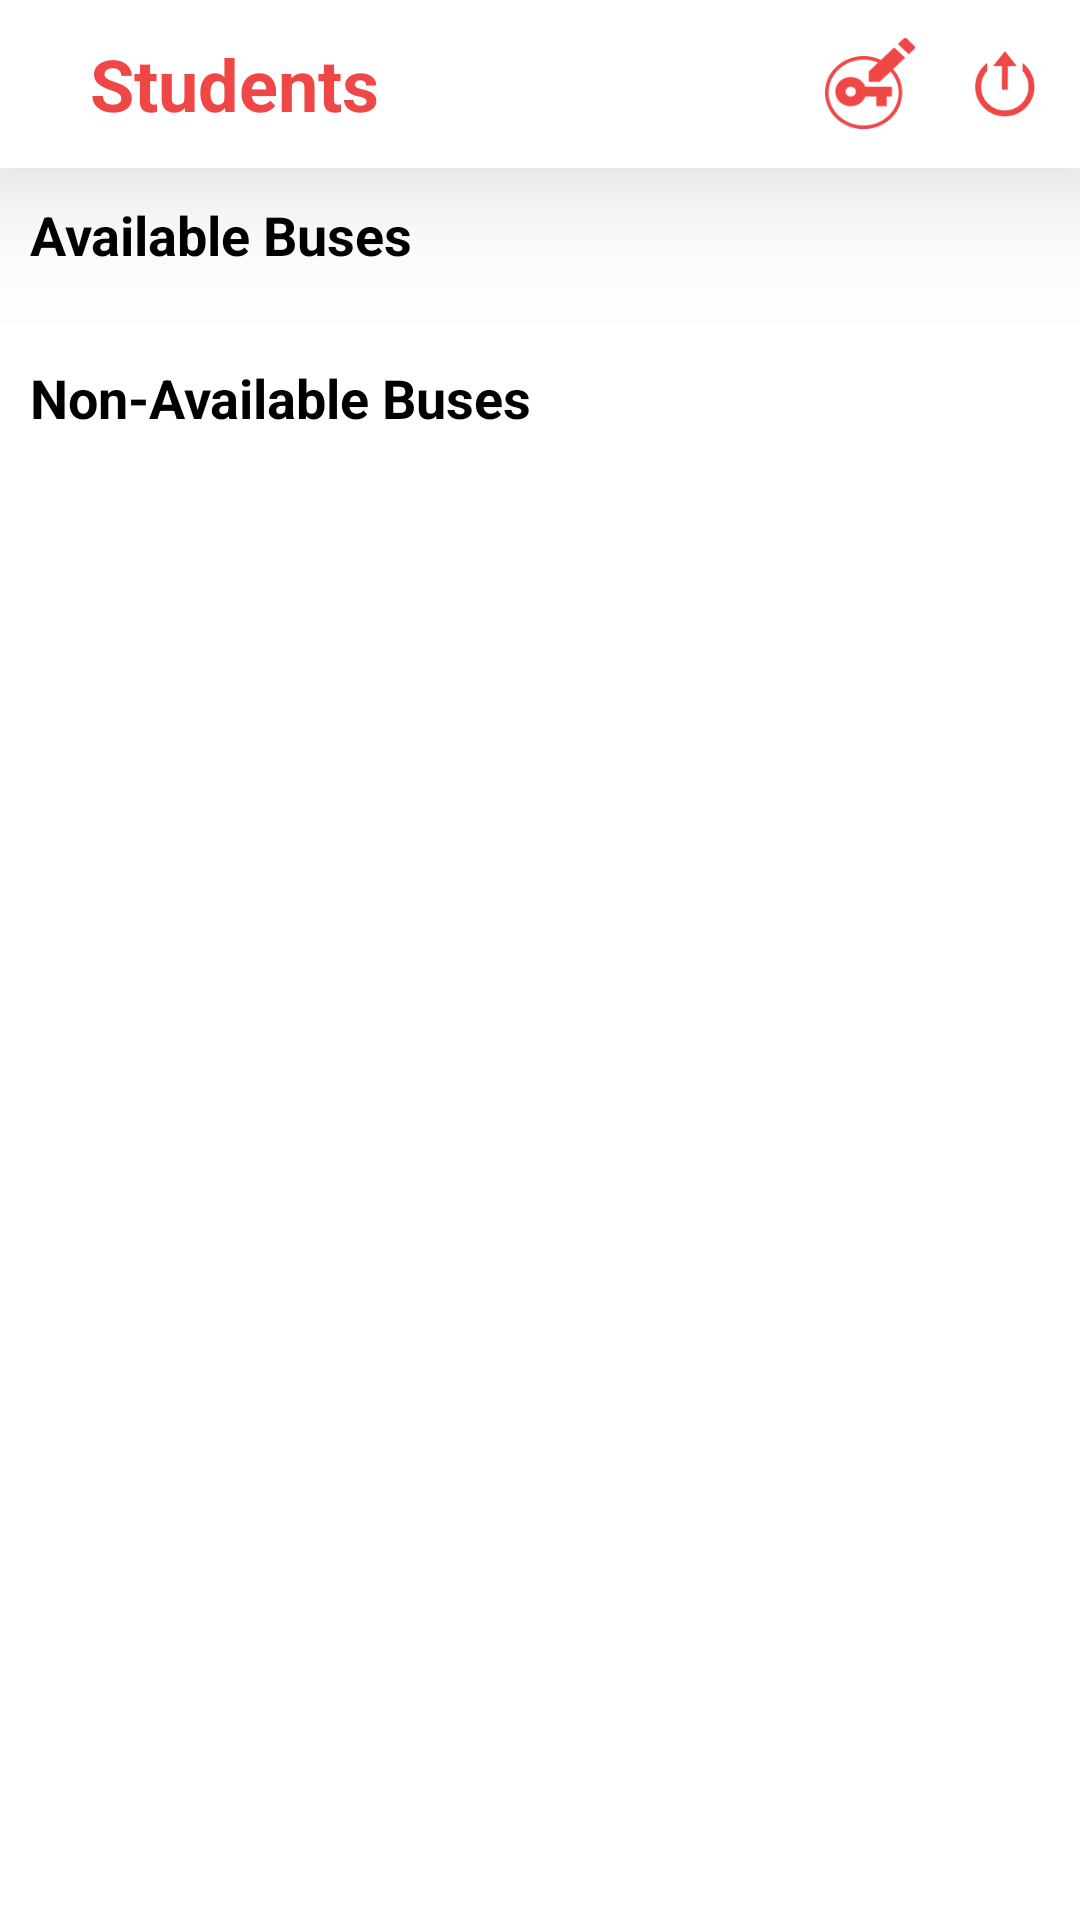

Icons on this 1080w x 1920h Android screen, each with its box as (x1, y1, x2, y2):
change password: (825, 38, 915, 129)
